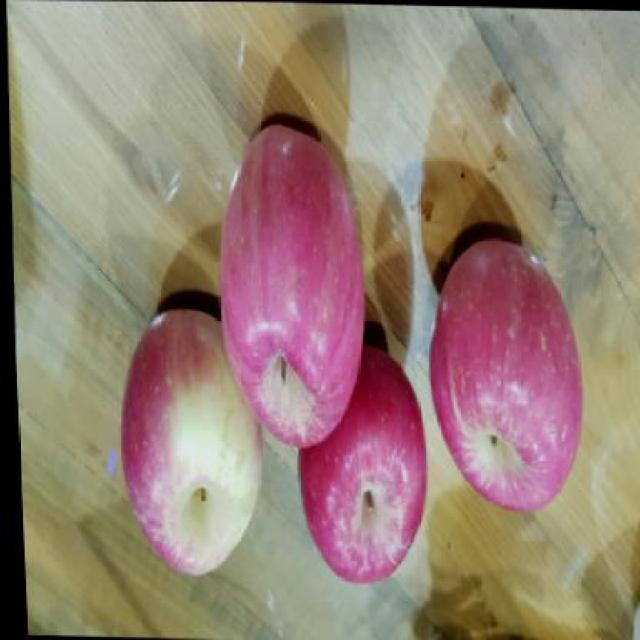Fresh Apple: (217, 125, 362, 434), (426, 251, 584, 503), (121, 320, 267, 578), (294, 361, 429, 581)
